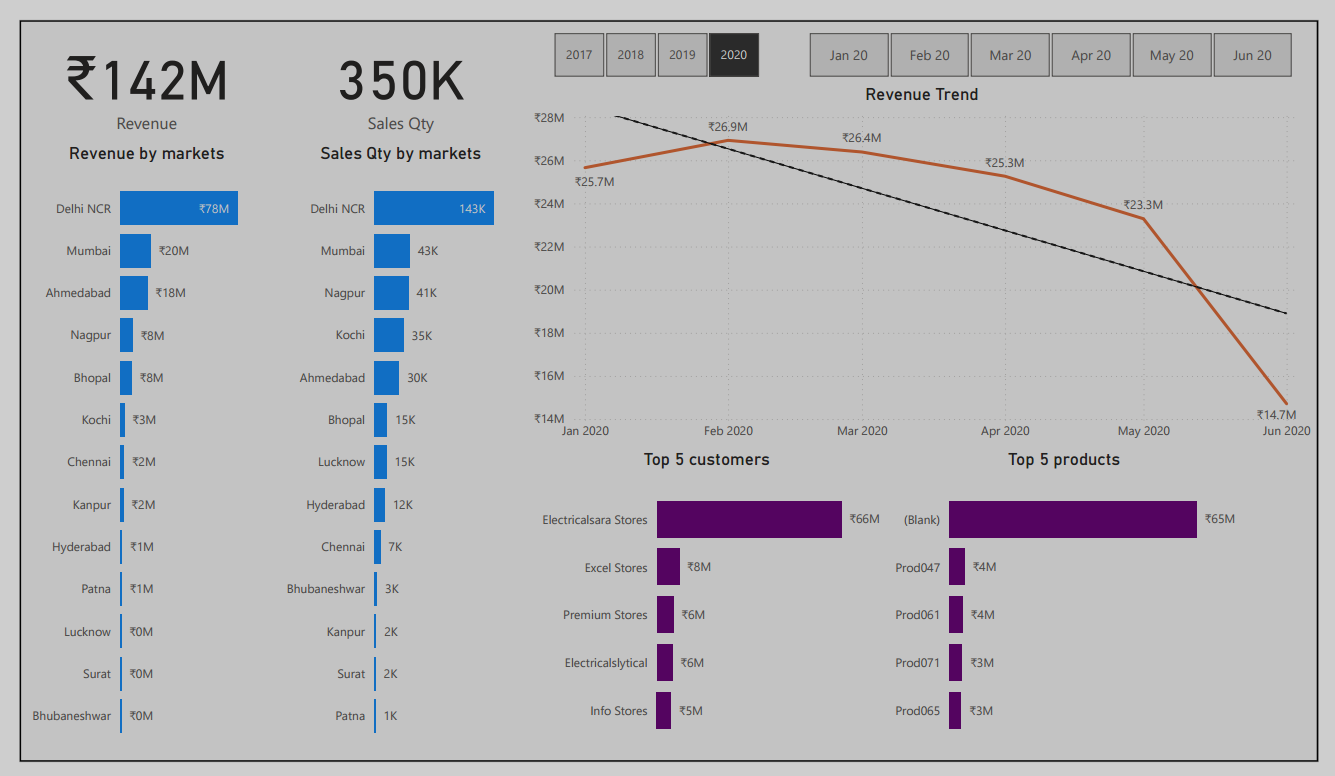

What the dashboard file says about the page in this screenshot:
{"tool":"powerbi","page":{"name":"Key Insights","canvas":[1280,720],"ordinal":0},"visuals":[{"type":"card","fields":{"Values":["Base_Measures.Revenue"]},"box":[0,0,250.7,114.7],"z":0},{"type":"card","fields":{"Values":["Base_Measures.Sales Qty"]},"box":[250.7,0,250.7,114.7],"z":1000},{"type":"clusteredBarChart","title":"Revenue by markets","fields":{"Y":["Base_Measures.Revenue"],"Category":["markets.markets_name"]},"box":[0,115,250.7,605.3],"z":2000},{"type":"clusteredBarChart","title":"Sales Qty by markets","fields":{"Y":["Base_Measures.Sales Qty"],"Category":["markets.markets_name"]},"box":[250.7,115,250.7,605.3],"z":3000},{"type":"slicer","fields":{"Values":["date.year"]},"box":[502,0,251.7,56.9],"z":4000},{"type":"slicer","fields":{"Values":["date.cy_date"]},"box":[753.8,0,526.2,56.9],"z":5000},{"type":"clusteredBarChart","title":"Top 5 customers","fields":{"Y":["Base_Measures.Revenue"],"Category":["customers.custmer_name"]},"box":[502,418.1,352.7,301.5],"z":6000},{"type":"clusteredBarChart","title":"Top 5 products","fields":{"Y":["Base_Measures.Revenue"],"Category":["products.product_code"]},"box":[854.8,418.1,352.7,301.5],"z":7000},{"type":"lineChart","title":"Revenue Trend","fields":{"Y":["Base_Measures.Revenue"],"Category":["date.cy_date.Variation.Date Hierarchy.Year","date.cy_date.Variation.Date Hierarchy.Quarter","date.cy_date.Variation.Date Hierarchy.Month","date.cy_date.Variation.Date Hierarchy.Day"]},"box":[502,56.9,778,361.2],"z":8000}]}

Visuals, with their boxes on the page's 1280x720 design canvas (x1, y1, x2, y2). These are canvas units, not pixel positions in the 1335x776 screenshot, which may show the page scaled, cropped or inside an application window:
card - Base_Measures.Revenue: [0,0,251,115]
card - Base_Measures.Sales Qty: [251,0,501,115]
"Revenue by markets" clusteredBarChart: [0,115,251,720]
"Sales Qty by markets" clusteredBarChart: [251,115,501,720]
slicer - date.year: [502,0,754,57]
slicer - date.cy_date: [754,0,1280,57]
"Top 5 customers" clusteredBarChart: [502,418,855,720]
"Top 5 products" clusteredBarChart: [855,418,1208,720]
"Revenue Trend" lineChart: [502,57,1280,418]
